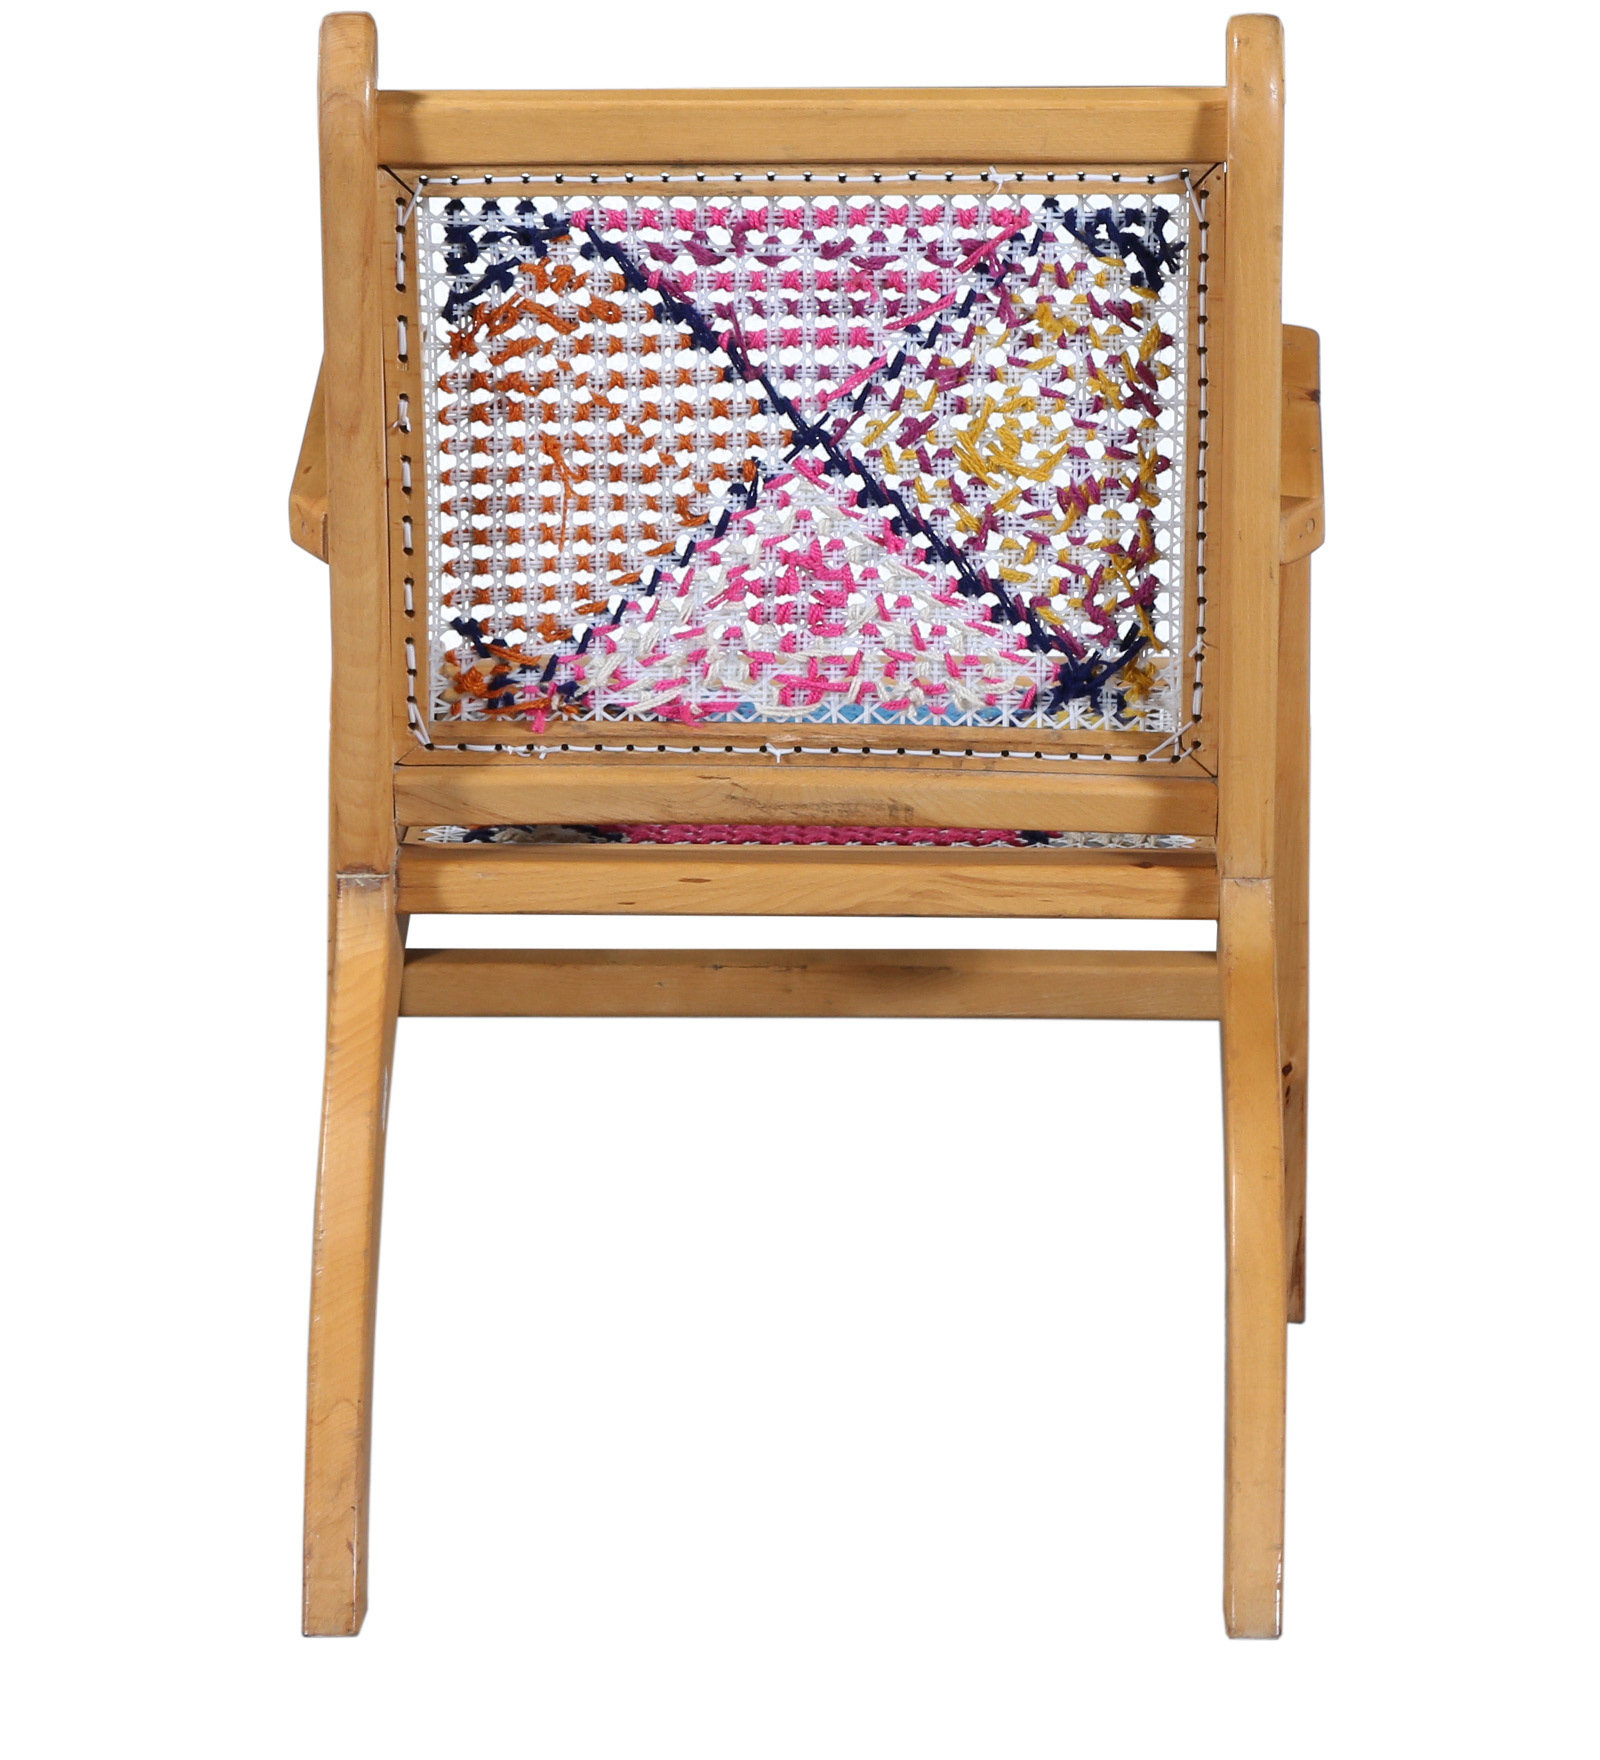Cara Arm Chair in in Multi- Color Finish by Bohemiana: (192, 8, 1392, 1677)
